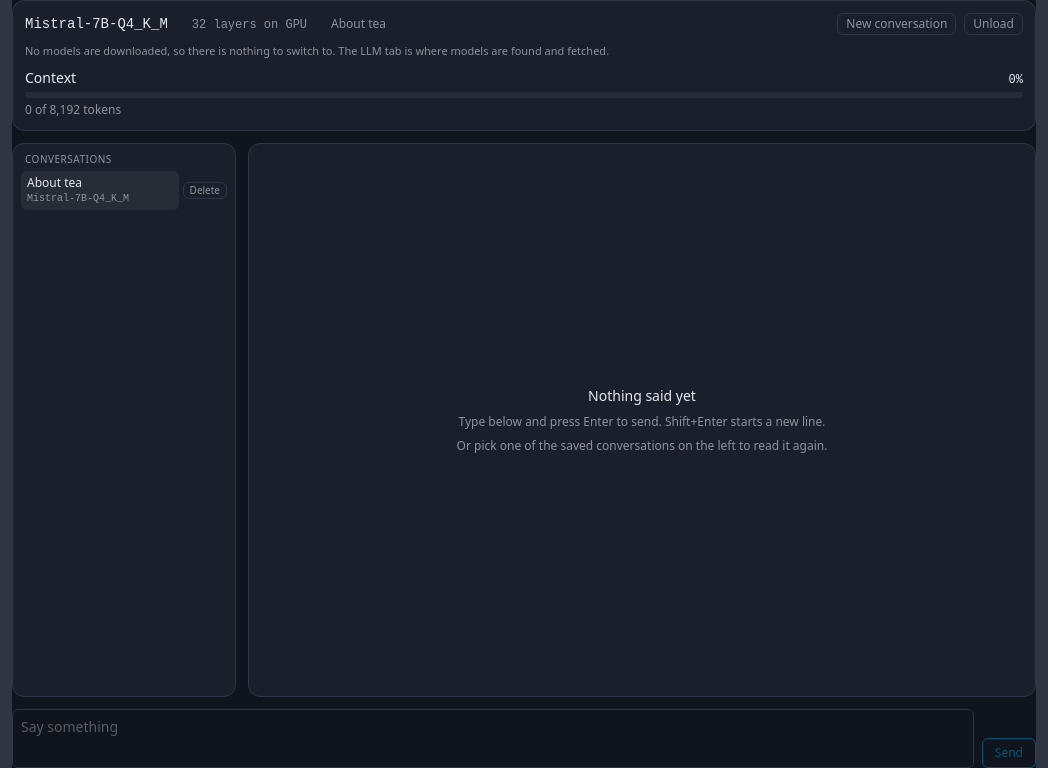
Test: the chat session across the page mounting › still stops the session when the user asks it to
The width and height of the screenshot is (1048, 768).
What coordinates should you click on to do the following:
click the button "Unload"
I would click on:
 (994, 24)
Its box is [964,13,1023,35].
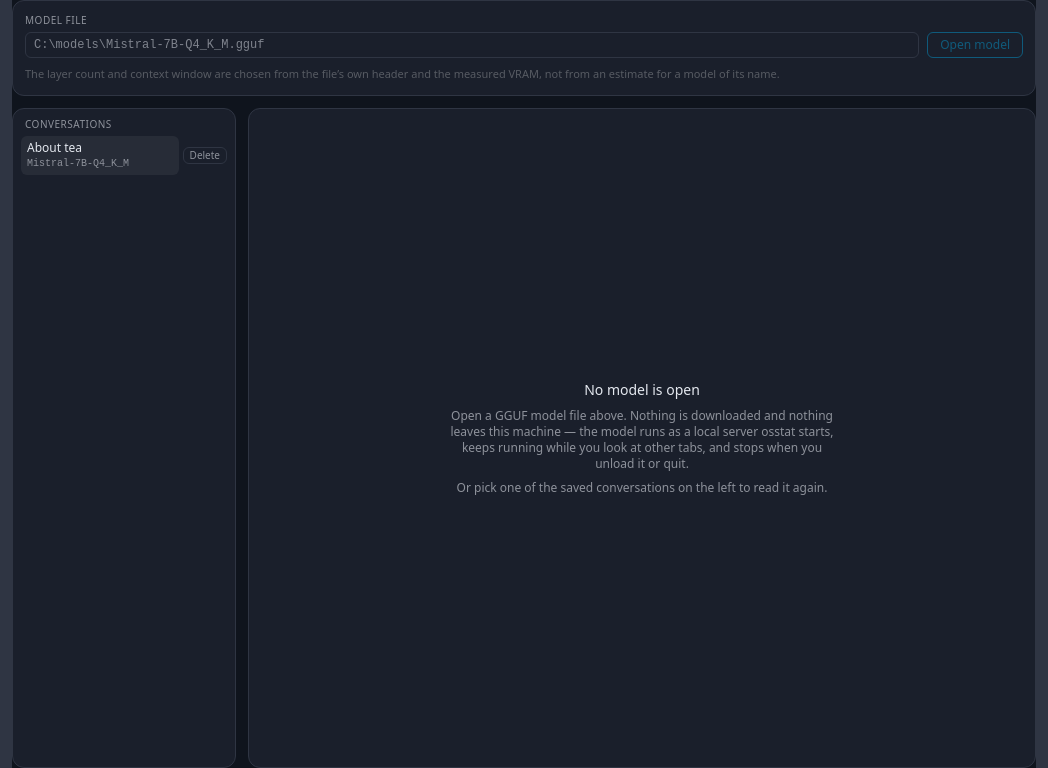
Now the field labelled "Model file" is shown, box [25,32,919,58]
